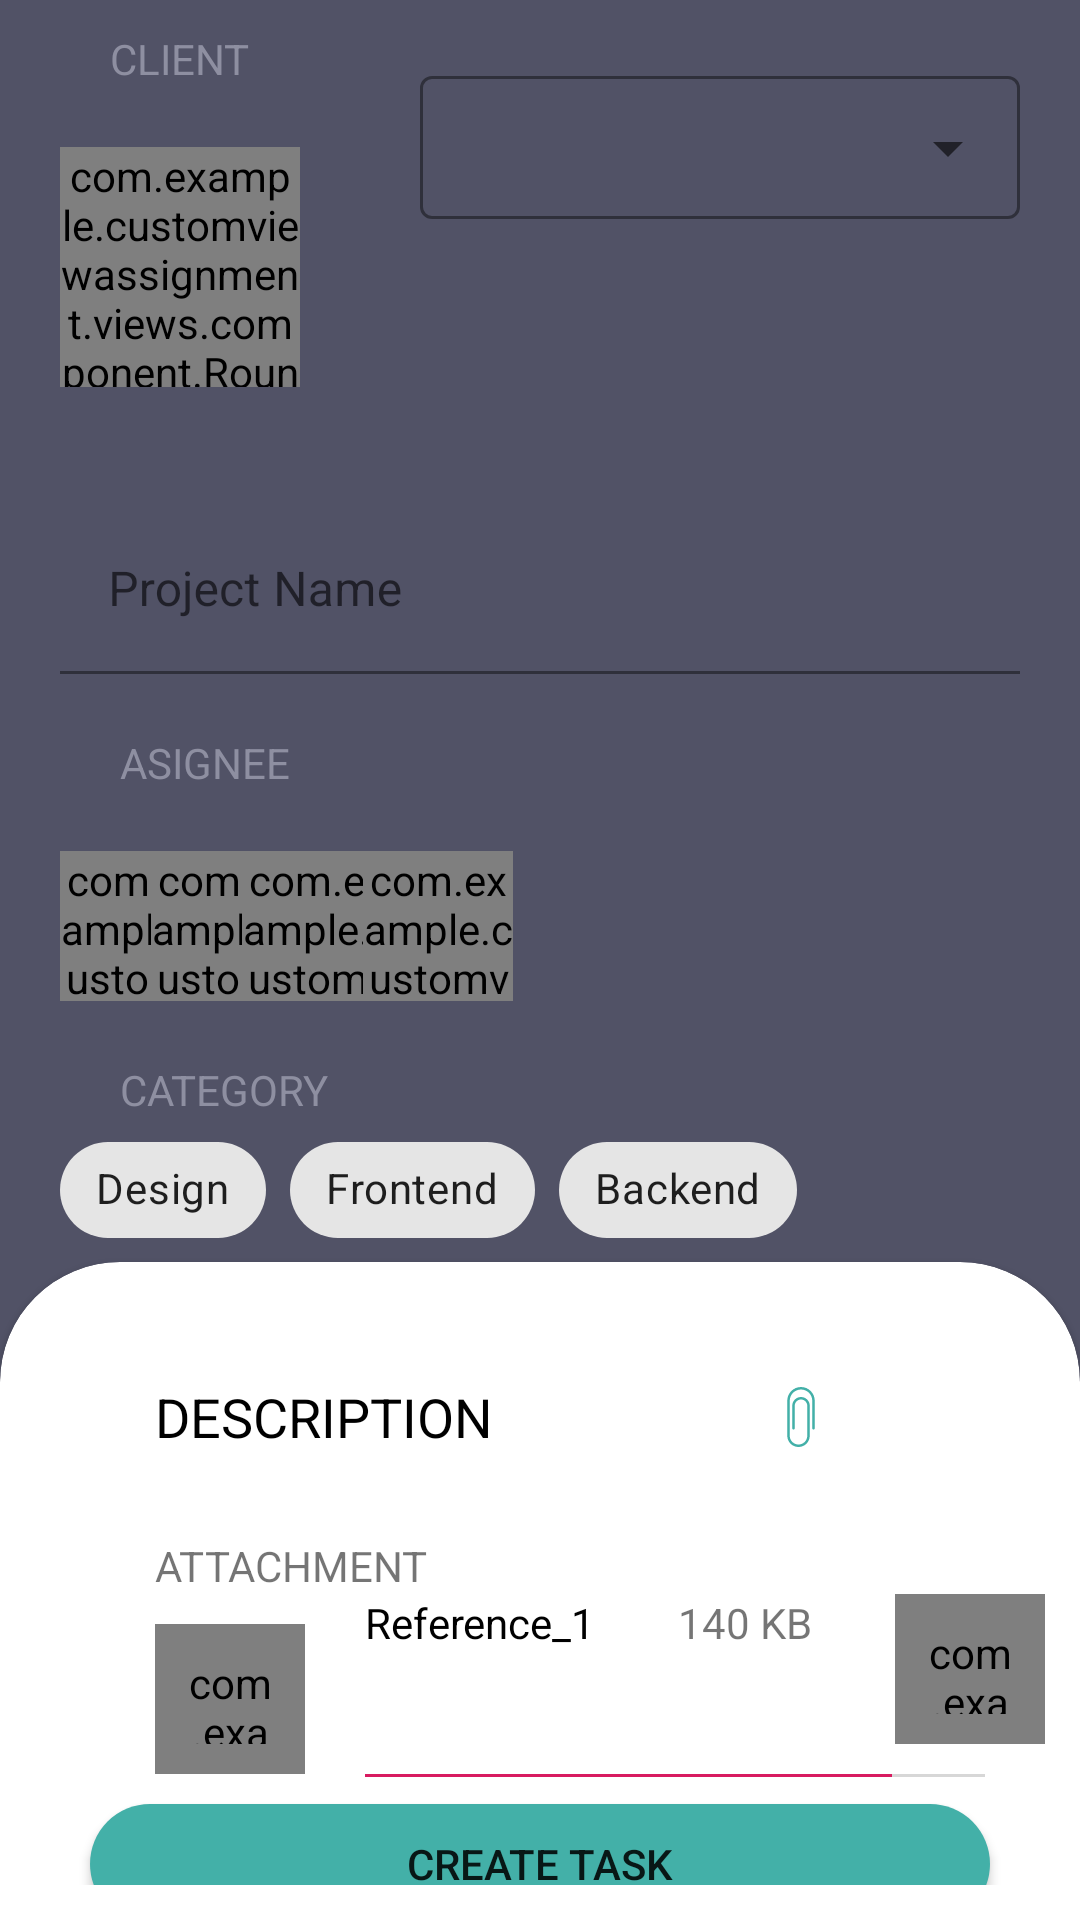

Icon click points for this 1080px x 1920px phone screenshot, format (x,y):
paperclip: (801,1417)
